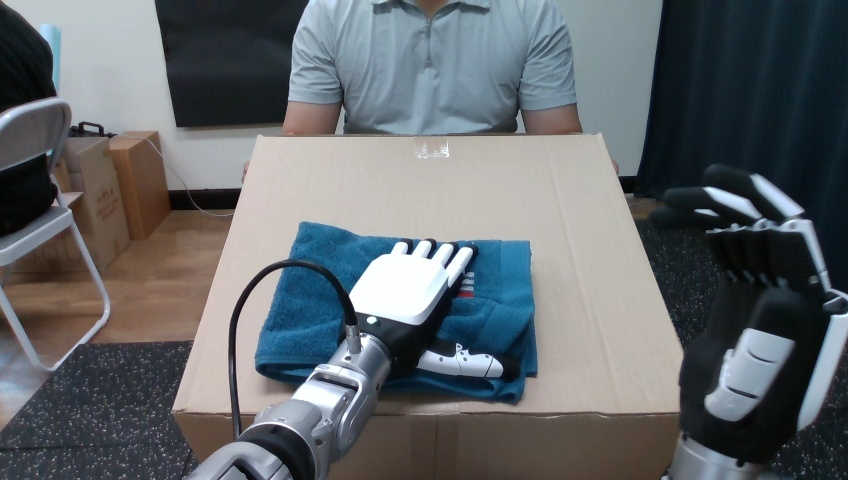left robot hand: (187, 240, 473, 479), (650, 164, 847, 479), (234, 264, 347, 432)
